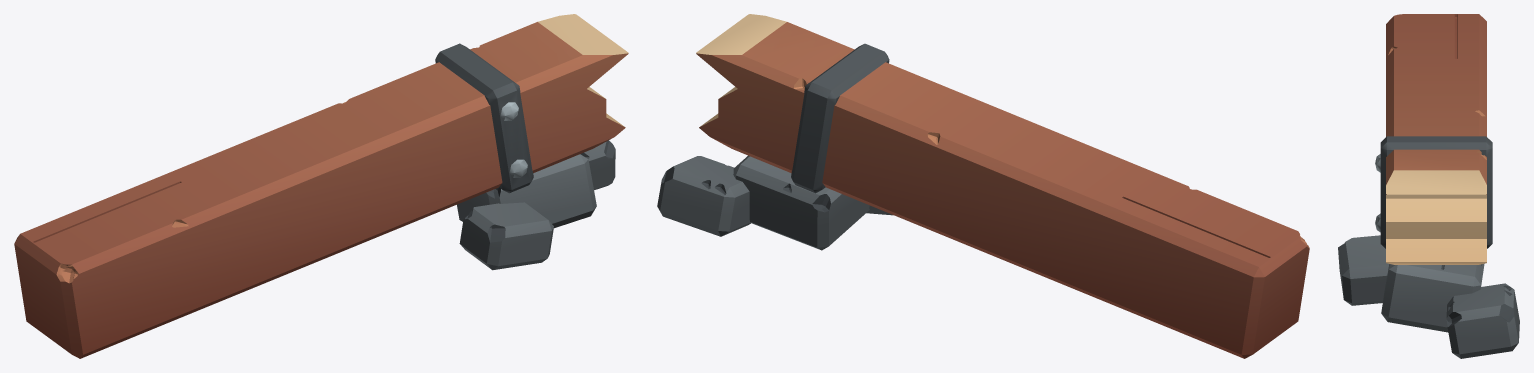
File: fallen_beam.glb
The picture shows the model from 3 angles, left to right: view 1: azimuth 30°, elevation 25°; view 2: azimuth 150°, elevation 25°; view 3: azimuth 270°, elevation 25°; orthographic projection. The views are drawn at different scales.
Visible parts, largest first — view 1: fallen_beam; view 2: fallen_beam; view 3: fallen_beam.
Part boxes in pixels (x1,y1,x2,y2): fallen_beam: [14, 14, 628, 358]; fallen_beam: [657, 14, 1309, 358]; fallen_beam: [1338, 14, 1519, 358].
Size of the model in its own units: 4.11 by 1.21 by 1.17.
Materials: 1 (1 with a texture image).
